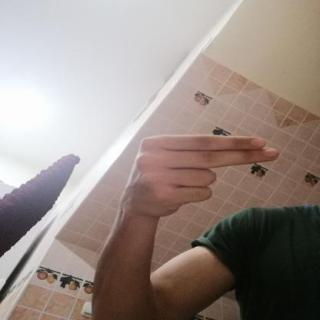AYN: (110, 125, 294, 228)
